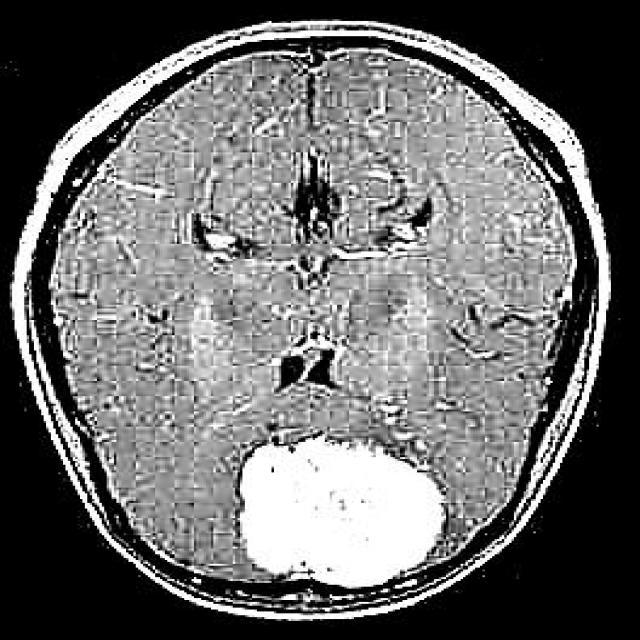tumor: (235, 434, 446, 587)
